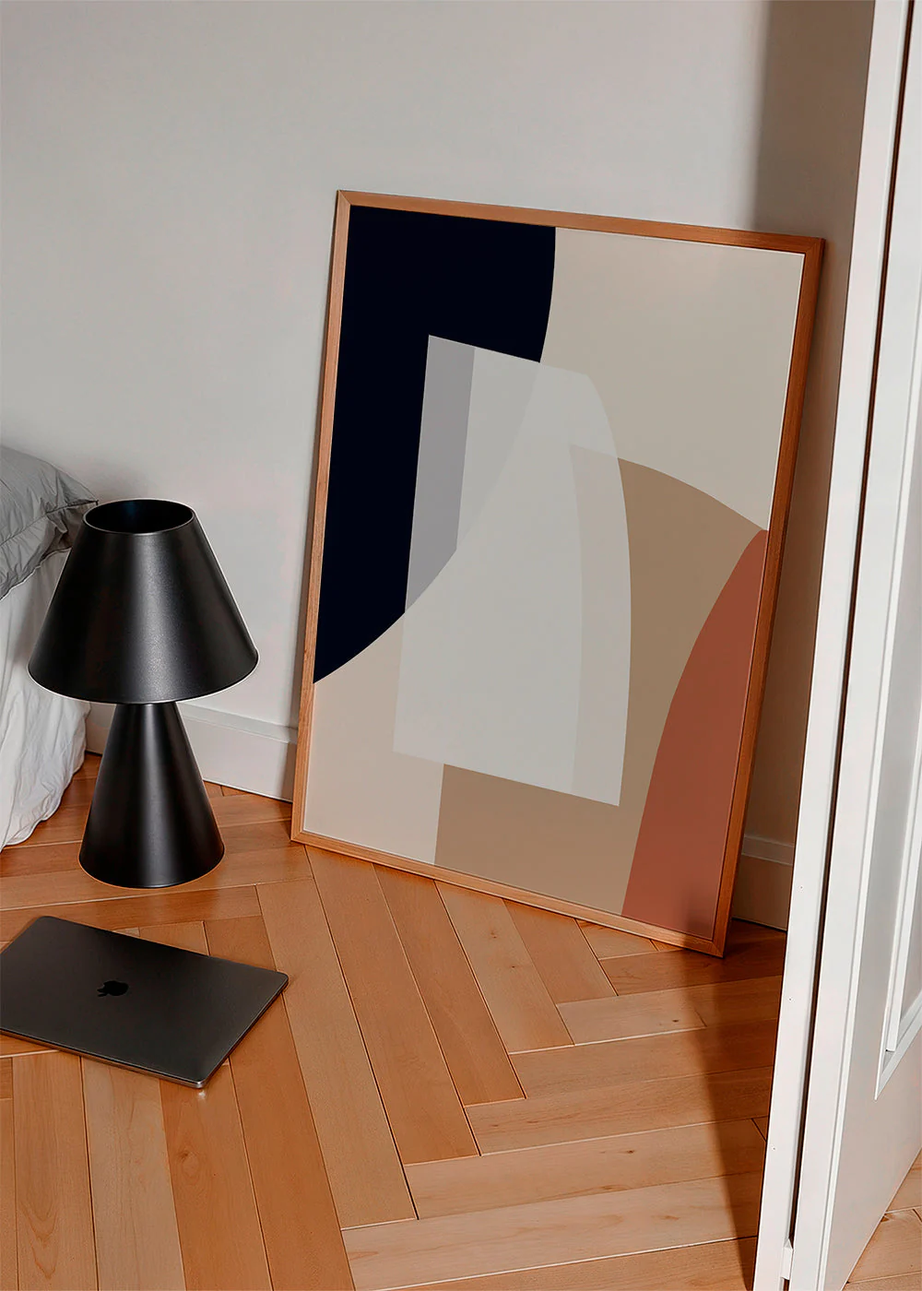painting: (287, 187, 827, 960)
